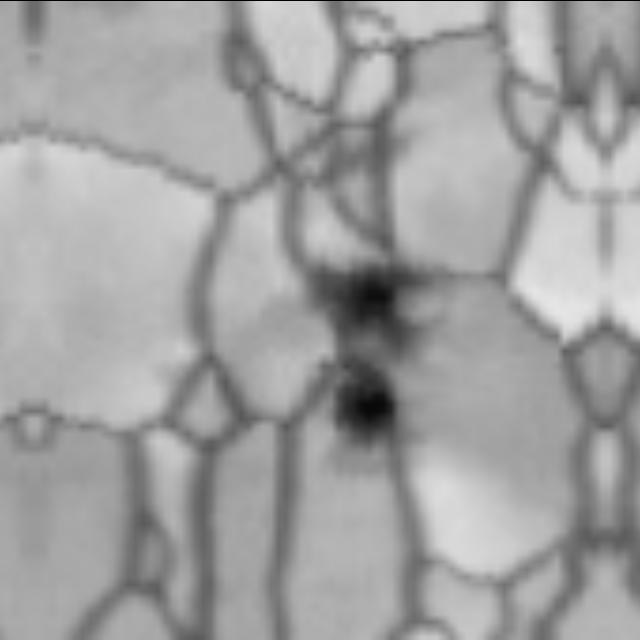good_void: (313, 354, 416, 476), (312, 263, 418, 354)
